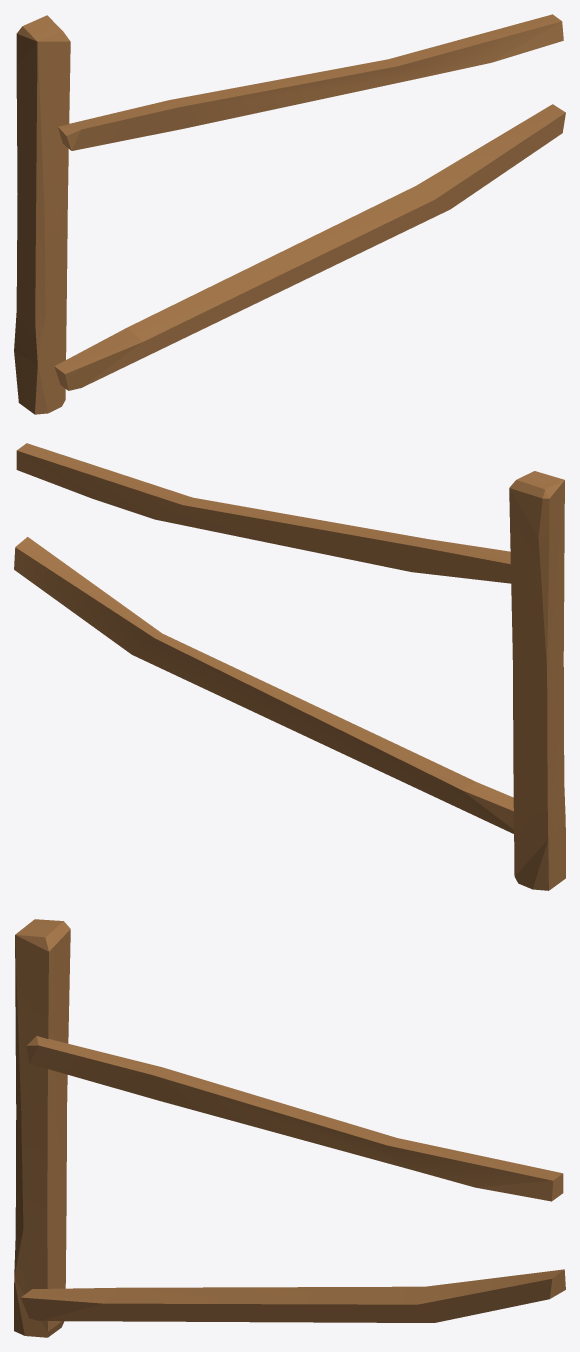
The model's file is Fence_WoodA_D.fbx.
3 renders of one model, top to bottom at view 1: azimuth 30°, elevation 25°; view 2: azimuth 150°, elevation 25°; view 3: azimuth 330°, elevation 25°, orthographic. The views are drawn at different scales.
Parts seen in each view (by area): view 1: Fence_WoodA_D; view 2: Fence_WoodA_D; view 3: Fence_WoodA_D.
Part boxes in pixels (box(x1,y1,x2,y2)): Fence_WoodA_D: box(14, 14, 565, 414); Fence_WoodA_D: box(14, 443, 565, 890); Fence_WoodA_D: box(14, 919, 565, 1337).
Size of the model in its own units: 220 by 154 by 23.28.
